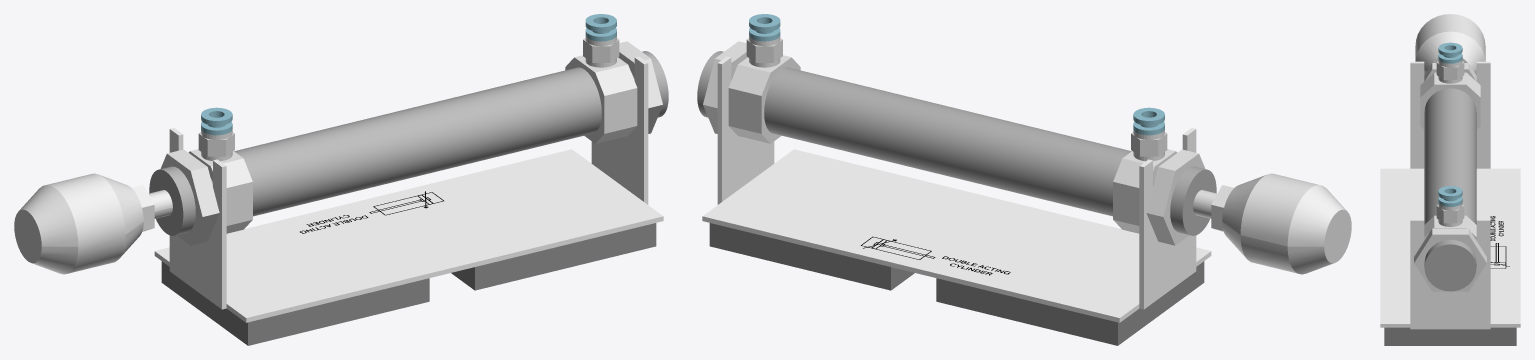
Rendered from double-acting-cylinder.glb.
3 renders of one model, left to right at view 1: azimuth 30°, elevation 25°; view 2: azimuth 150°, elevation 25°; view 3: azimuth 270°, elevation 25°, orthographic. The views are drawn at different scales.
Visible parts, largest first — view 1: Base__go1086__mesh4, Cylinder__go1013__mesh0, Rod__go1017__mesh0, Base__go1086__mesh0, Base__go1086__mesh3, Base__go1086__mesh5, Base__go1086__mesh1, Base__go1086__mesh2, Sticker__go1014__mesh0; view 2: Base__go1086__mesh4, Cylinder__go1013__mesh0, Rod__go1017__mesh0, Base__go1086__mesh0, Base__go1086__mesh3, Base__go1086__mesh5, Base__go1086__mesh1, Base__go1086__mesh2, Sticker__go1014__mesh0; view 3: Base__go1086__mesh4, Cylinder__go1013__mesh0, Rod__go1017__mesh0, Base__go1086__mesh0, Base__go1086__mesh5, Base__go1086__mesh3, Base__go1086__mesh1, Base__go1086__mesh2, Sticker__go1014__mesh0.
Part boxes in pixels (x1=…): Base__go1086__mesh4: x1=154, y1=56, x2=663, y2=322; Cylinder__go1013__mesh0: x1=149, y1=51, x2=668, y2=235; Rod__go1017__mesh0: x1=14, y1=173, x2=172, y2=274; Base__go1086__mesh0: x1=161, y1=223, x2=656, y2=345; Base__go1086__mesh3: x1=188, y1=55, x2=637, y2=233; Base__go1086__mesh5: x1=160, y1=41, x2=662, y2=245; Base__go1086__mesh1: x1=198, y1=36, x2=619, y2=161; Base__go1086__mesh2: x1=201, y1=14, x2=616, y2=135; Sticker__go1014__mesh0: x1=300, y1=191, x2=443, y2=233; Base__go1086__mesh4: x1=702, y1=56, x2=1211, y2=322; Cylinder__go1013__mesh0: x1=697, y1=51, x2=1216, y2=235; Rod__go1017__mesh0: x1=1193, y1=173, x2=1351, y2=274; Base__go1086__mesh0: x1=709, y1=223, x2=1204, y2=345; Base__go1086__mesh3: x1=728, y1=55, x2=1177, y2=233; Base__go1086__mesh5: x1=703, y1=41, x2=1205, y2=245; Base__go1086__mesh1: x1=746, y1=36, x2=1167, y2=161; Base__go1086__mesh2: x1=749, y1=14, x2=1164, y2=135; Sticker__go1014__mesh0: x1=861, y1=236, x2=1010, y2=275; Base__go1086__mesh4: x1=1380, y1=61, x2=1520, y2=329; Cylinder__go1013__mesh0: x1=1424, y1=88, x2=1476, y2=291; Rod__go1017__mesh0: x1=1415, y1=14, x2=1485, y2=74; Base__go1086__mesh0: x1=1384, y1=327, x2=1516, y2=345; Base__go1086__mesh5: x1=1414, y1=63, x2=1486, y2=291; Base__go1086__mesh3: x1=1420, y1=72, x2=1480, y2=240; Base__go1086__mesh1: x1=1436, y1=59, x2=1464, y2=226; Base__go1086__mesh2: x1=1438, y1=42, x2=1462, y2=206; Sticker__go1014__mesh0: x1=1490, y1=216, x2=1509, y2=268.
Bounding box in the file's own units: 0.275 × 0.083 × 0.07.
Materials: 7 (1 with a texture image).
